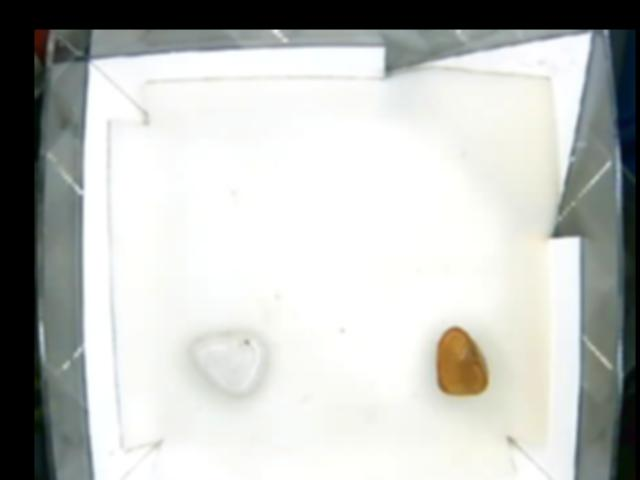Pebble: (192, 332, 268, 398), (435, 324, 489, 395)
